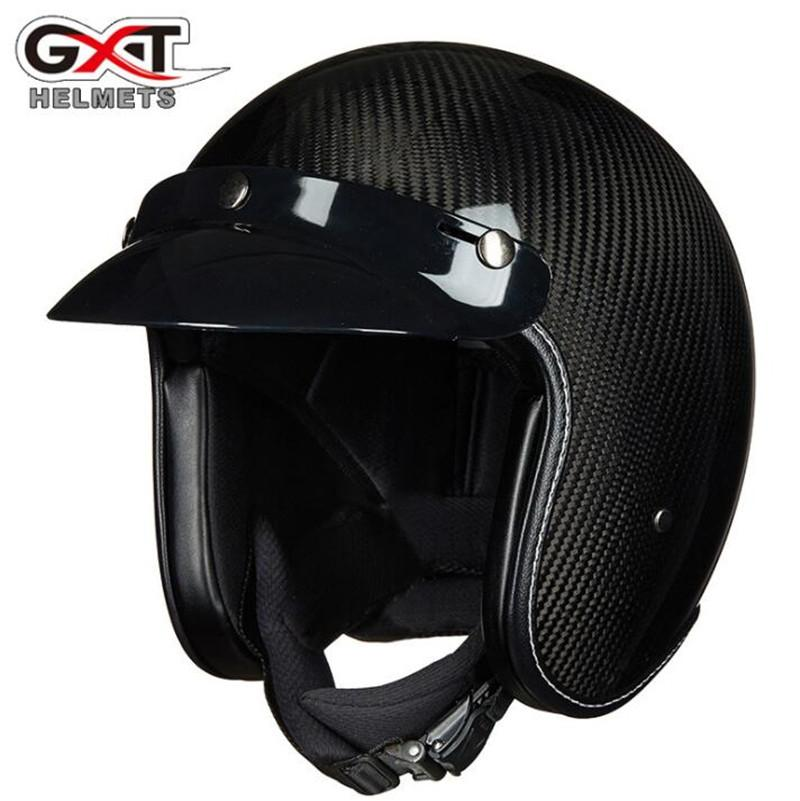with_helmet: (43, 40, 760, 723)
